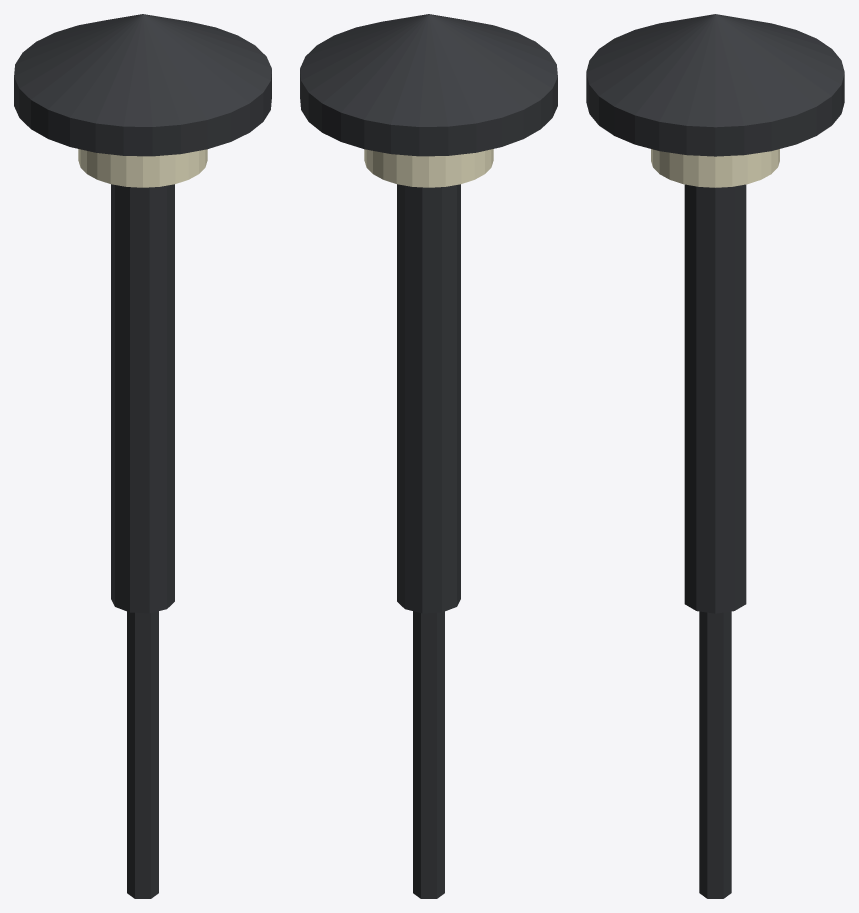
3 renders of one model, left to right at view 1: azimuth 30°, elevation 25°; view 2: azimuth 150°, elevation 25°; view 3: azimuth 270°, elevation 25°, orthographic.
Parts seen in each view (by area): view 1: baseOffset=0;diameter=0.1;height=0.4;material=luminaire;powe (×2); view 2: baseOffset=0;diameter=0.1;height=0.4;material=luminaire;powe (×2); view 3: baseOffset=0;diameter=0.1;height=0.4;material=luminaire;powe (×2).
Boxes of the visible parts, x1,y1,x2,y2 form: baseOffset=0;diameter=0.1;height=0.4;material=luminaire;powe (×2): (14, 14, 271, 898); baseOffset=0;diameter=0.1;height=0.4;material=luminaire;powe (×2): (300, 14, 557, 898); baseOffset=0;diameter=0.1;height=0.4;material=luminaire;powe (×2): (586, 14, 844, 898).
Bounding box in the file's own units: 0.16 × 0.16 × 0.6.
